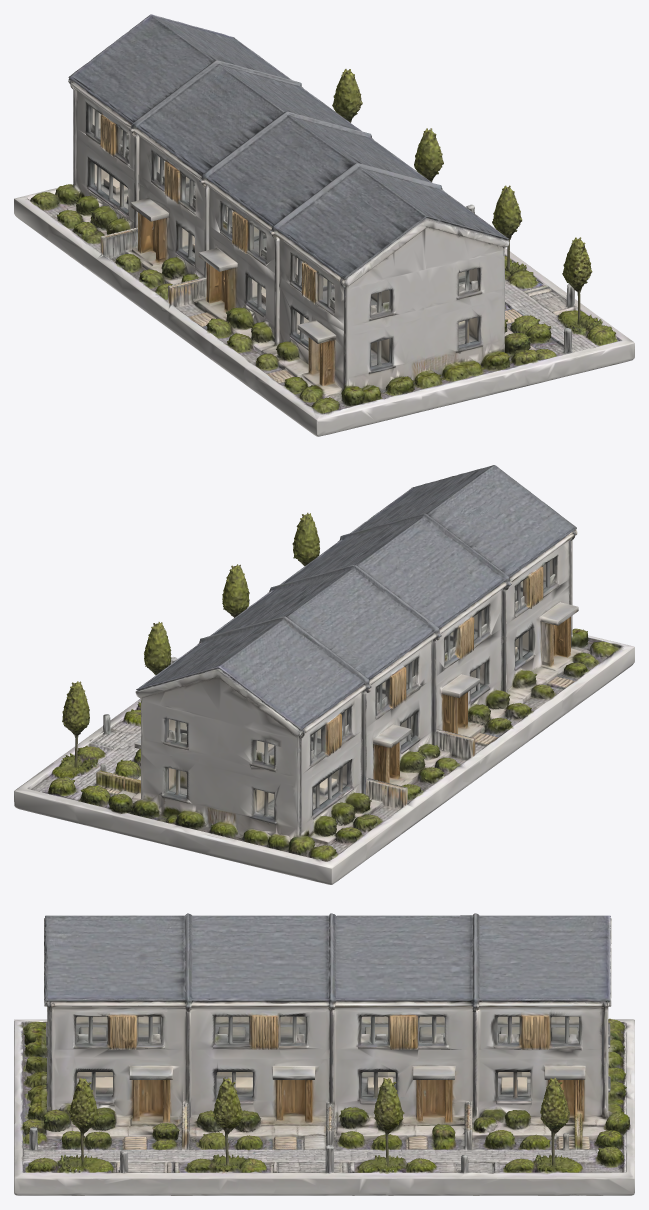
File: b4-homes.glb
The picture shows the model from 3 angles, top to bottom: view 1: azimuth 30°, elevation 25°; view 2: azimuth 150°, elevation 25°; view 3: azimuth 270°, elevation 25°; orthographic projection. The views are drawn at different scales.
Parts seen in each view (by area): view 1: tripo_node_fc54d9a9-b977-4b4f-b814-a057f339c2e1; view 2: tripo_node_fc54d9a9-b977-4b4f-b814-a057f339c2e1; view 3: tripo_node_fc54d9a9-b977-4b4f-b814-a057f339c2e1.
Part boxes in pixels (bbox=[...]): tripo_node_fc54d9a9-b977-4b4f-b814-a057f339c2e1: bbox=[14, 14, 634, 436]; tripo_node_fc54d9a9-b977-4b4f-b814-a057f339c2e1: bbox=[14, 465, 634, 884]; tripo_node_fc54d9a9-b977-4b4f-b814-a057f339c2e1: bbox=[14, 913, 634, 1195].
Bounding box in the file's own units: 0.5487 × 0.2999 × 0.9058.
Materials: 1 (1 with a texture image).
